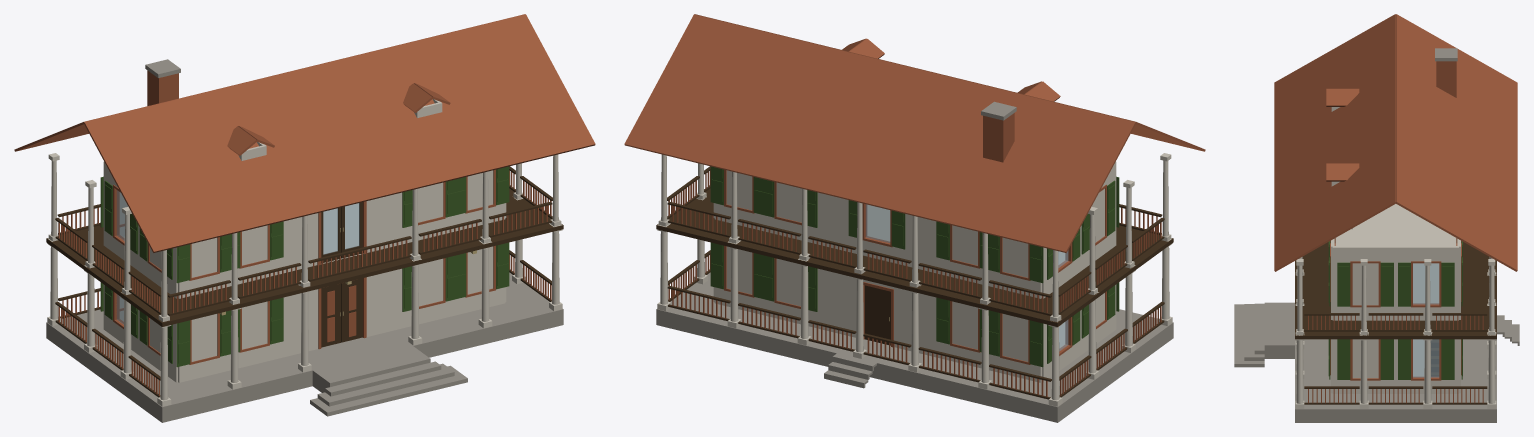
Rendered from french-colonial-rubber-plantation.glb.
3 views of the same model, side by side, from view 1: azimuth 30°, elevation 25°; view 2: azimuth 150°, elevation 25°; view 3: azimuth 270°, elevation 25° (orthographic). The views are drawn at different scales.
Visible parts, largest first — view 1: Mesh_RoofA, Mesh_Plinth, Mesh_GalleryDeck, Mesh_GroundFloor_WallFront_R, Mesh_GroundFloor_WallFront_L, Mesh_Shaft (×9), Mesh_FirstFloor_WallFront_L, Mesh_FirstFloor_WallFront_R, Mesh_PorchPlatform, Mesh_Step3, Mesh_Step2, Mesh_FirstFloor_Floor (+9 smaller); view 2: Mesh_RoofB, Mesh_Plinth, Mesh_GalleryDeck, Mesh_Shaft (×10), Mesh_GroundFloor_WallBack_R, Mesh_GroundFloor_WallBack_L, Mesh_FirstFloor_WallBack_R, Mesh_FirstFloor_WallBack_L, Mesh_FirstFloor_WallRight_R, Mesh_GFBDoorLeaf, Mesh_Chimney, Mesh_RoofA (+3 smaller); view 3: Mesh_RoofB, Mesh_RoofA, Mesh_Plinth, Mesh_GalleryDeck, Mesh_FirstFloor_Floor, Mesh_FirstFloor_WallLeft_R, Mesh_Shaft (×8), Mesh_GroundFloor_WallLeft_R, Mesh_WGlass (×2), Mesh_PorchPlatform, Mesh_Step3, Mesh_FirstFloor_WallLeft_L (+13 smaller).
Boxes of the visible parts, box(x1,y1,x2,y2) form: Mesh_RoofA: box(84, 14, 595, 252); Mesh_Plinth: box(46, 272, 563, 422); Mesh_GalleryDeck: box(46, 188, 563, 326); Mesh_GroundFloor_WallFront_R: box(178, 289, 318, 382); Mesh_GroundFloor_WallFront_L: box(366, 246, 505, 336); Mesh_Shaft (×9): box(50, 231, 559, 400); Mesh_FirstFloor_WallFront_L: box(366, 170, 505, 252); Mesh_FirstFloor_WallFront_R: box(178, 213, 318, 298); Mesh_PorchPlatform: box(312, 346, 430, 392); Mesh_Step3: box(310, 365, 467, 416); Mesh_Step2: box(317, 363, 454, 406); Mesh_FirstFloor_Floor: box(323, 203, 358, 253); Mesh_RoofB: box(624, 14, 1135, 252); Mesh_Plinth: box(656, 272, 1173, 422); Mesh_GalleryDeck: box(656, 188, 1173, 326); Mesh_Shaft (×10): box(660, 231, 1169, 400); Mesh_GroundFloor_WallBack_R: box(892, 287, 1041, 382); Mesh_GroundFloor_WallBack_L: box(714, 246, 856, 337); Mesh_FirstFloor_WallBack_R: box(892, 214, 1041, 298); Mesh_FirstFloor_WallBack_L: box(714, 170, 856, 253); Mesh_FirstFloor_WallRight_R: box(1071, 161, 1116, 277); Mesh_GFBDoorLeaf: box(864, 285, 890, 345); Mesh_Chimney: box(983, 113, 1014, 162); Mesh_RoofA: box(694, 14, 1205, 151); Mesh_RoofB: box(1396, 14, 1517, 271); Mesh_RoofA: box(1274, 14, 1396, 271); Mesh_Plinth: box(1295, 339, 1496, 422); Mesh_GalleryDeck: box(1295, 242, 1496, 339); Mesh_FirstFloor_Floor: box(1335, 204, 1456, 302); Mesh_FirstFloor_WallLeft_R: box(1332, 246, 1410, 320); Mesh_Shaft (×8): box(1296, 265, 1495, 403); Mesh_GroundFloor_WallLeft_R: box(1332, 339, 1410, 393); Mesh_WGlass (×2): box(1413, 263, 1439, 377); Mesh_PorchPlatform: box(1264, 302, 1294, 358); Mesh_Step3: box(1234, 304, 1264, 367); Mesh_FirstFloor_WallLeft_L: box(1441, 246, 1458, 320).
Size of the model in its own units: 17.6 by 10.33 by 11.3.
4 materials, 4 textured.
